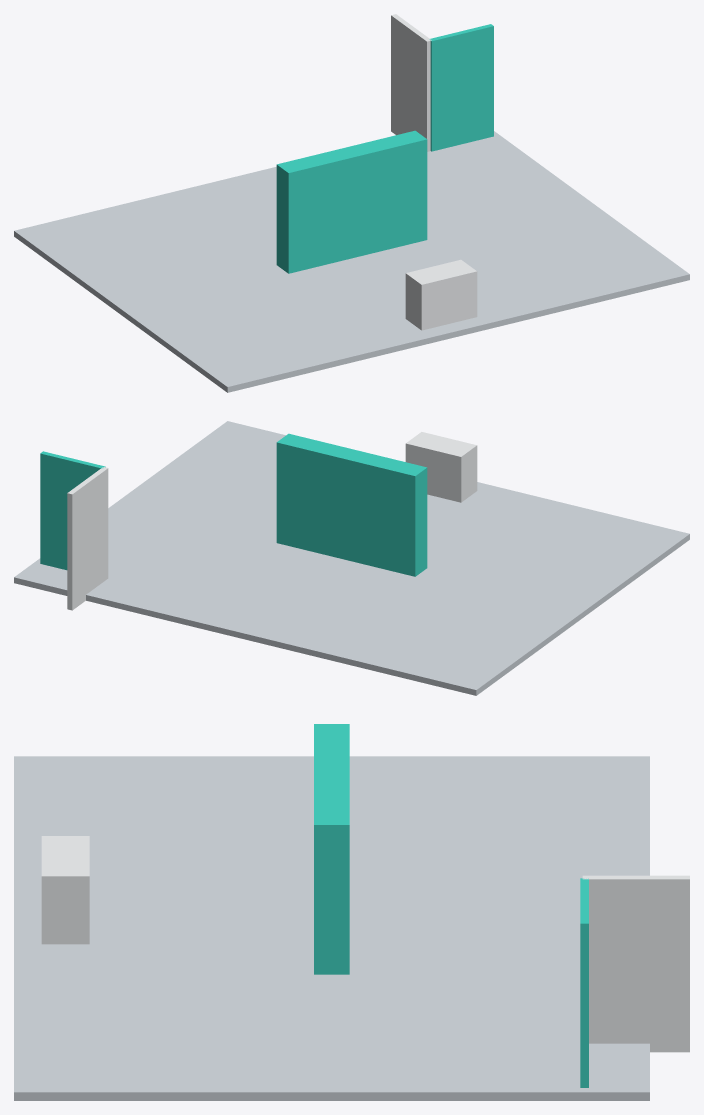
The picture shows the model from 3 angles, top to bottom: view 1: azimuth 30°, elevation 25°; view 2: azimuth 150°, elevation 25°; view 3: azimuth 270°, elevation 25°; orthographic projection. The views are drawn at different scales.
Parts seen in each view (by area): view 1: Exhibition Booth Concept; view 2: Exhibition Booth Concept; view 3: Exhibition Booth Concept.
Part boxes in pixels (x1=…): Exhibition Booth Concept: x1=14, y1=14, x2=689, y2=392; Exhibition Booth Concept: x1=14, y1=421, x2=689, y2=695; Exhibition Booth Concept: x1=14, y1=724, x2=689, y2=1100.
Size of the model in its own units: 10 by 2.4 by 8.51.
